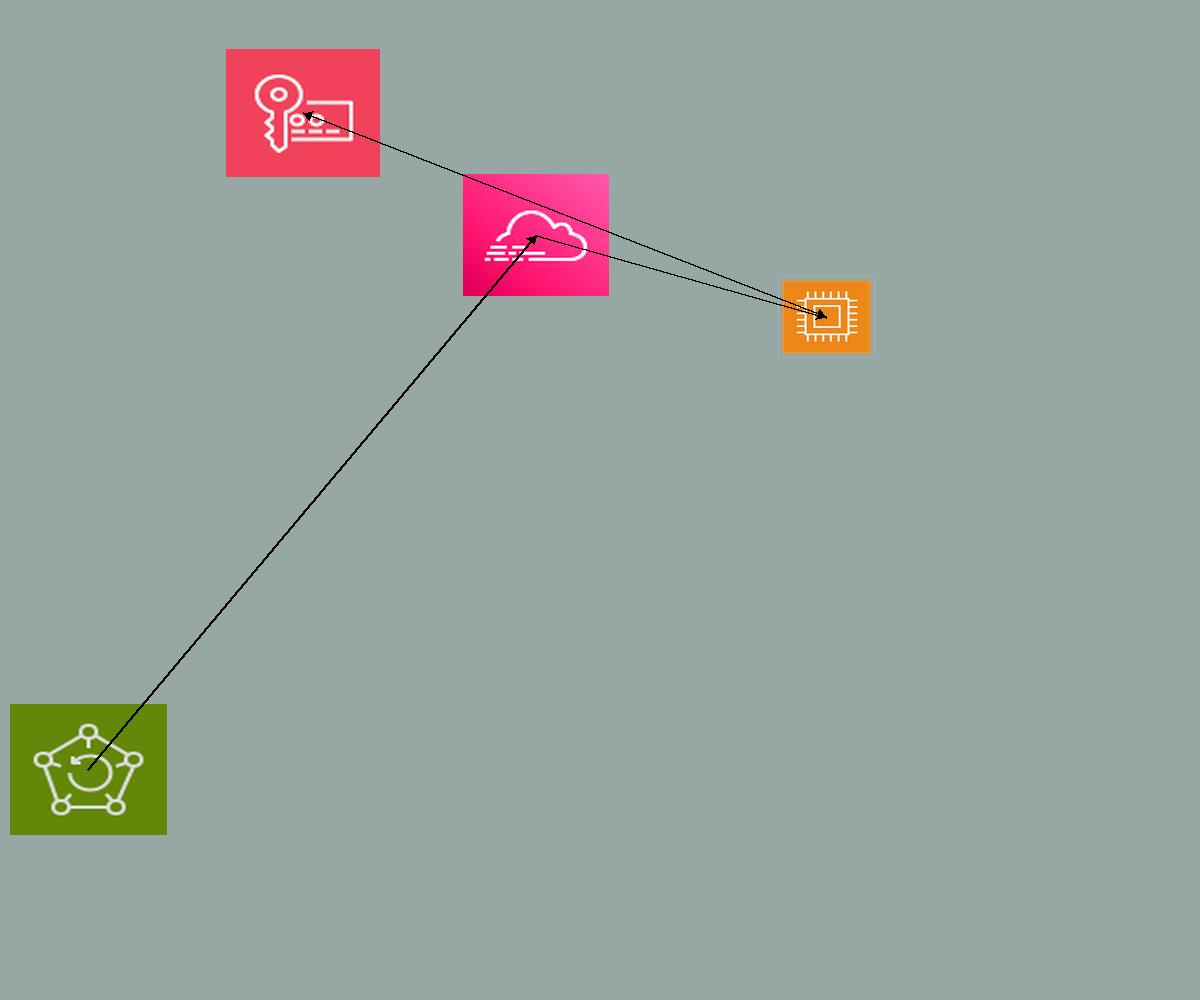AWS-Backup: (10, 704, 167, 835)
AWS-Category_Compute: (777, 276, 876, 358)
AWS-CloudTrail: (463, 174, 609, 296)
AWS-Key-Management-Service: (226, 49, 380, 177)
